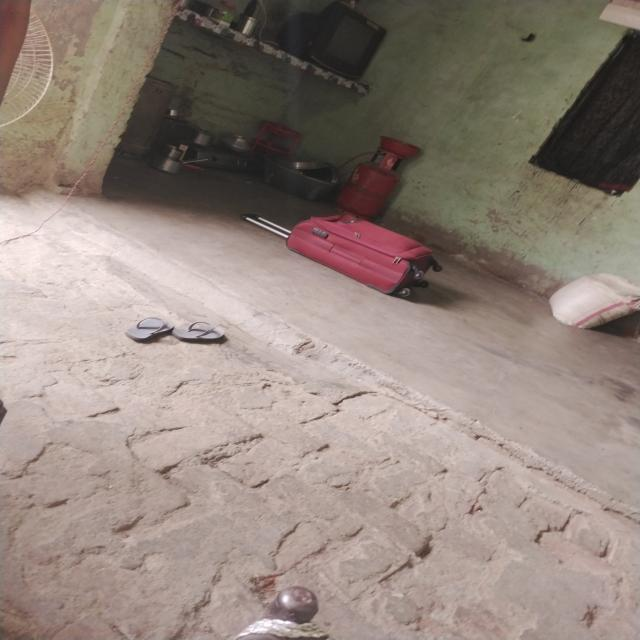suitcaserotation: (234, 208, 444, 299)
